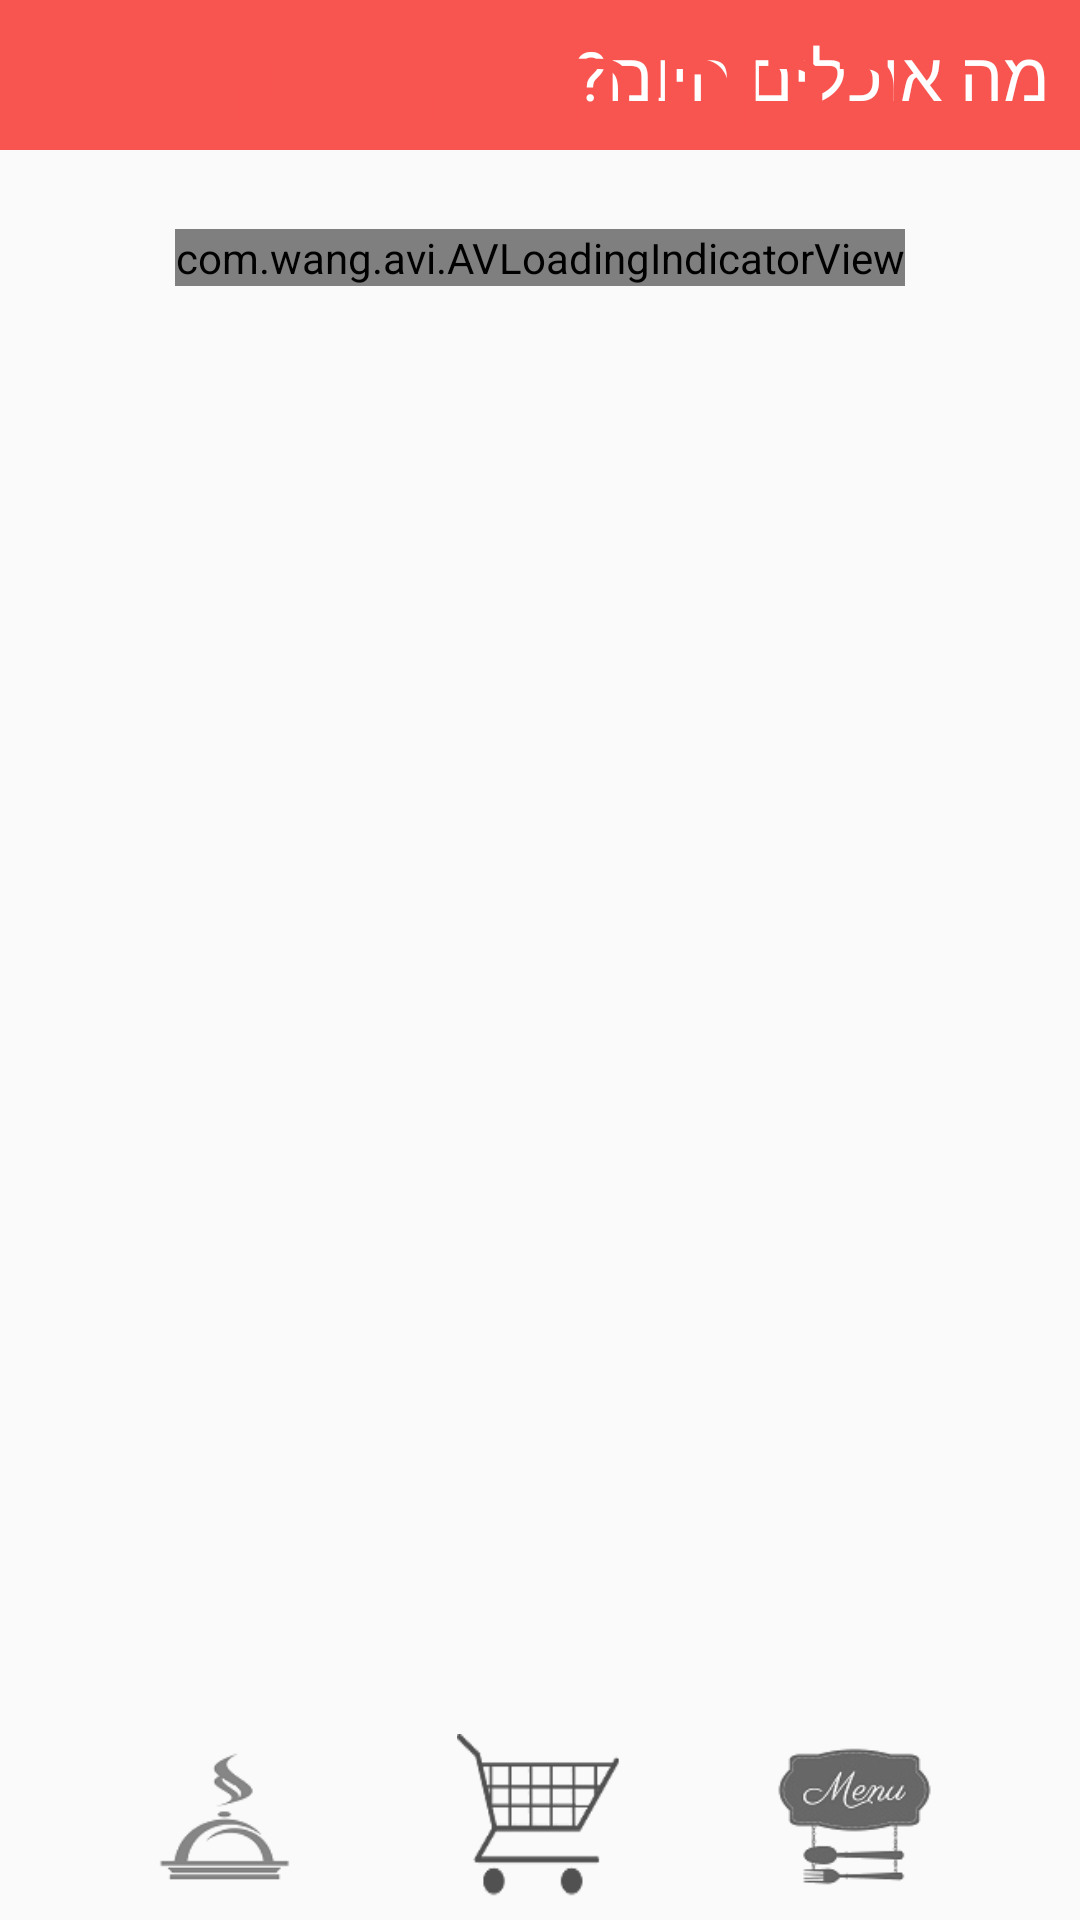

Named icons in this screenshot (1080px x 1920px) and their centers, (x=x, y=y):
cart: (x=538, y=1814)
